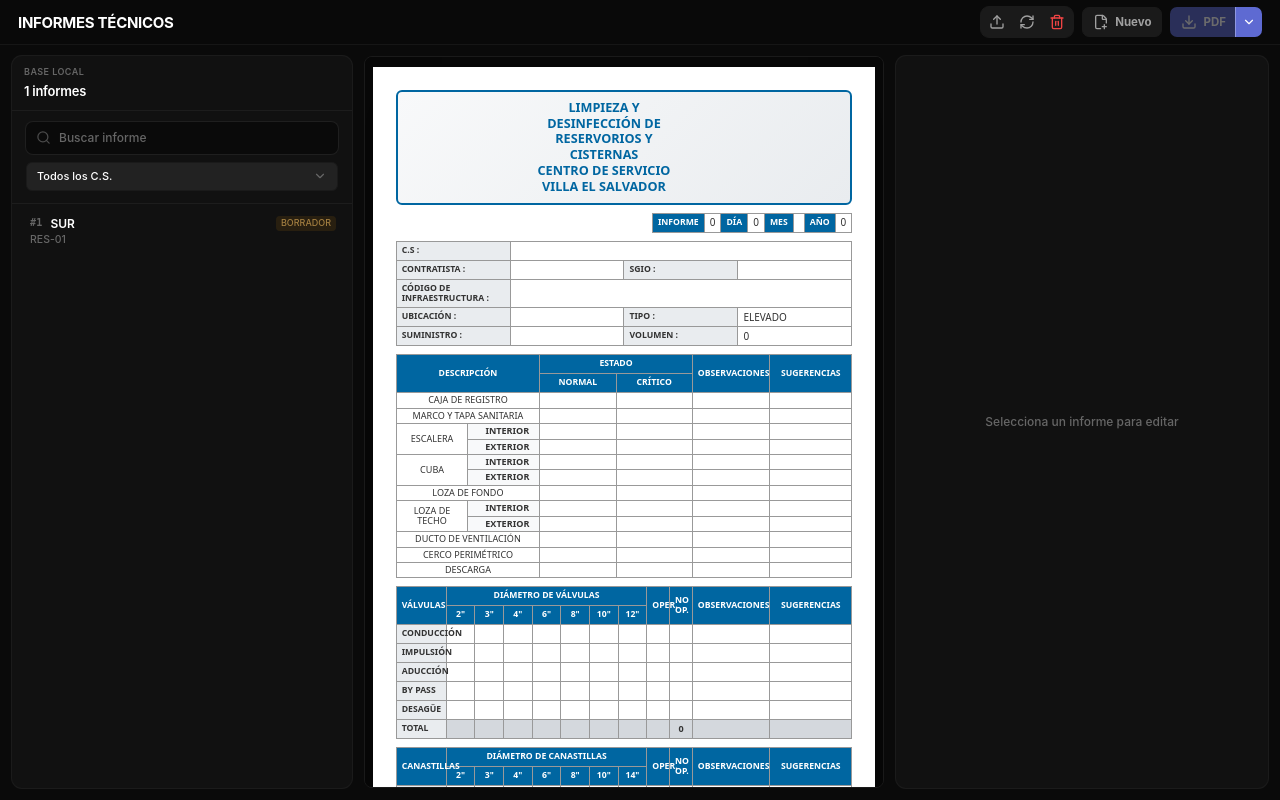
TechnicalReportsApp › lists reports on mount and opens one on click
This screenshot has width=1280, height=800.
Click the text "SUR".
click(63, 224)  # box [50,216,75,231]
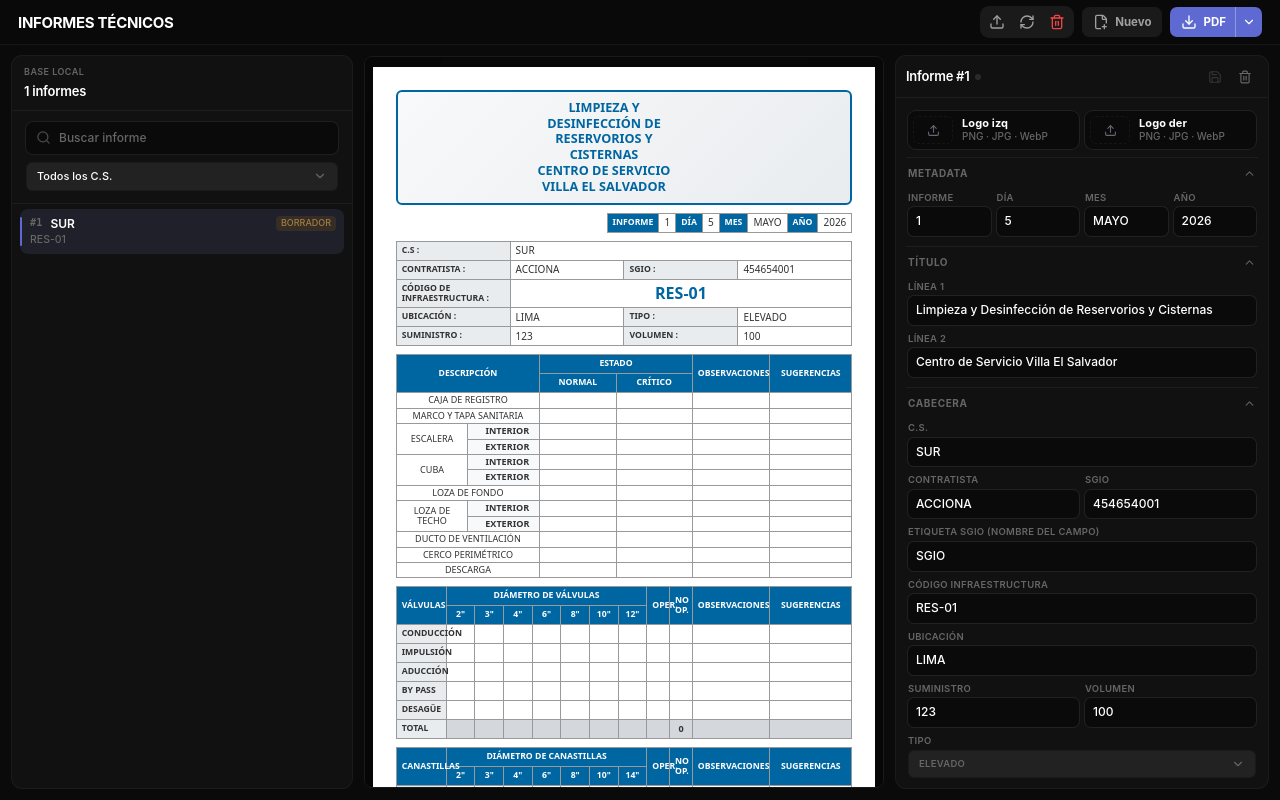
expect the heading "Informe #1" is shown: met, box [906,67,982,86]
expect the field showing "ACCIONA" is shown: met, box [908,490,1079,518]
